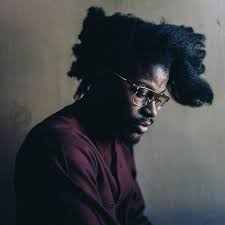black_male: (104, 51, 168, 142)
